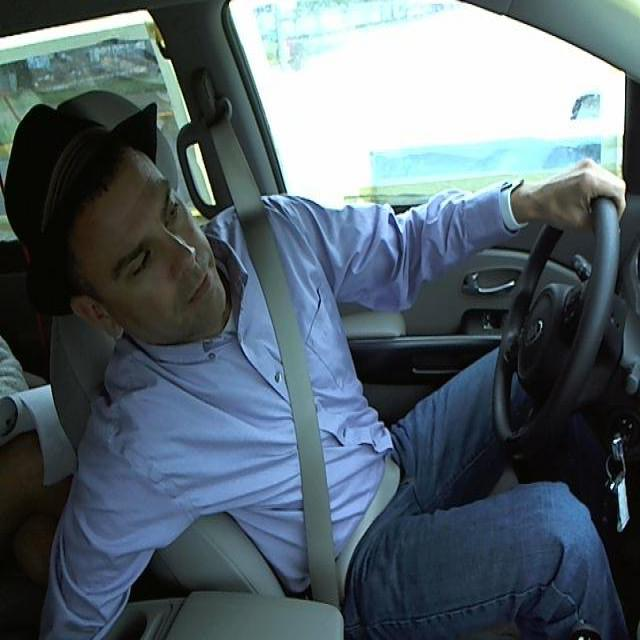seatbelt: (242, 216, 355, 600)
